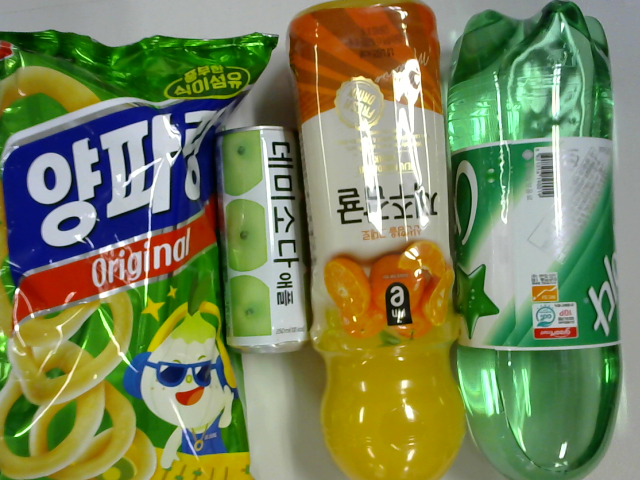Chilseong_Cider_1.5L: (441, 9, 627, 480)
Demisoda_Apple_Can_250ml: (194, 125, 310, 364)
Jeju_Tangerine_1.5L: (300, 4, 452, 468)
Oninon_Ring: (1, 22, 251, 469)
